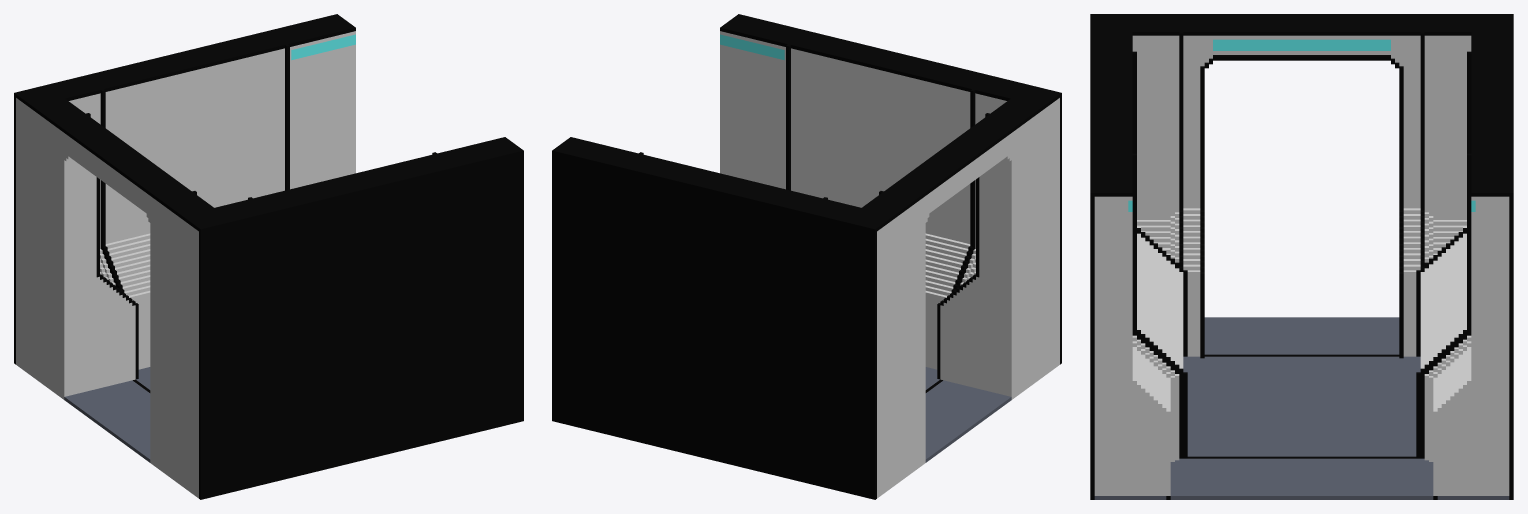
The model's file is TestBlocks-2.obj.
The picture shows the model from 3 angles, left to right: view 1: azimuth 30°, elevation 25°; view 2: azimuth 150°, elevation 25°; view 3: azimuth 270°, elevation 25°; orthographic projection. The views are drawn at different scales.
Bounding box in the file's own units: 10 × 8 × 10.
1 material, 1 textured.
